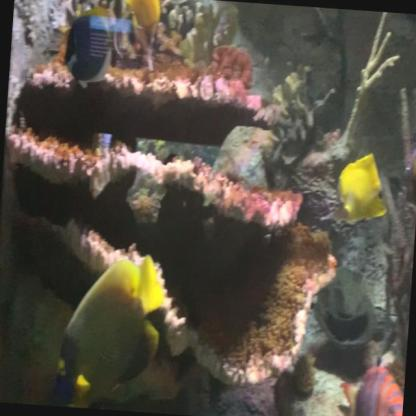fish: (54, 248, 167, 410), (61, 1, 134, 92), (332, 152, 391, 228), (336, 361, 406, 415), (117, 0, 164, 44), (400, 118, 416, 190)
